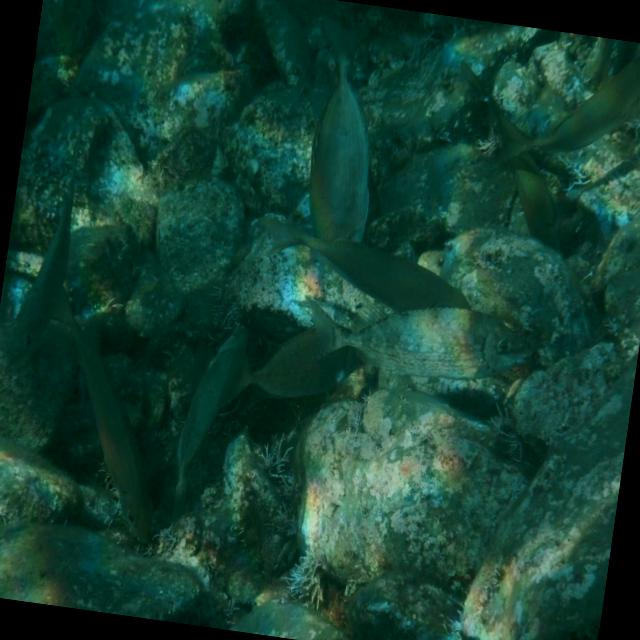Sokar Baligi: (280, 260, 552, 420)
